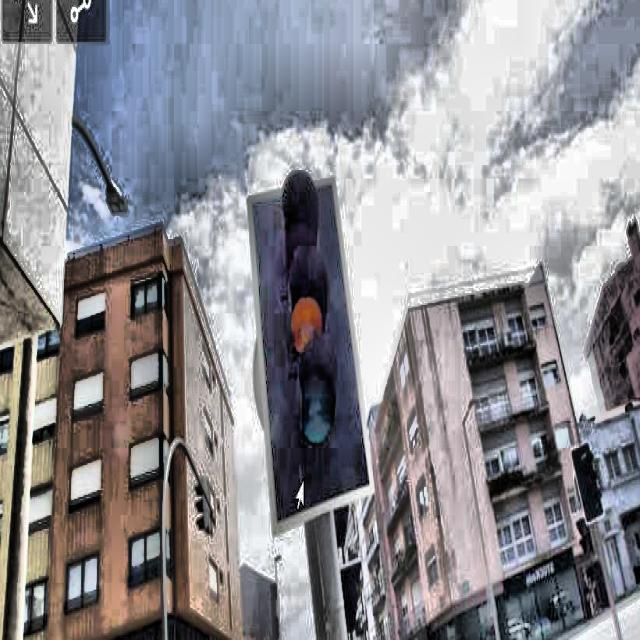yellow: (276, 168, 339, 463)
